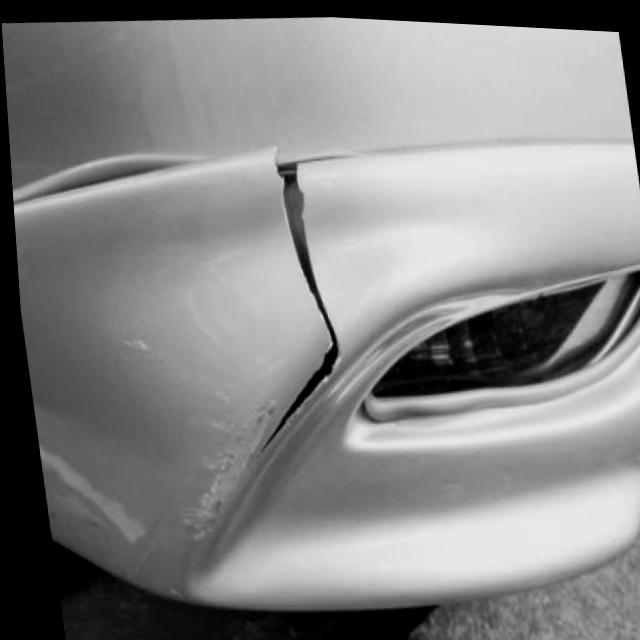Crack: (254, 141, 346, 456)
Scratch: (186, 390, 282, 547)
